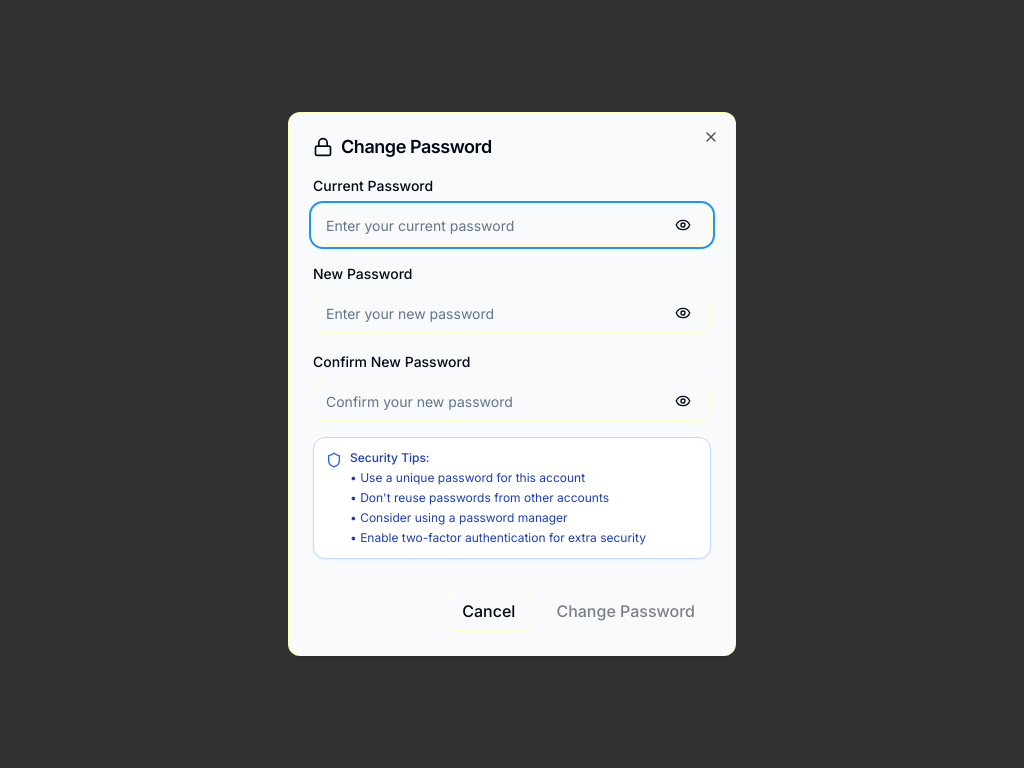
Test: PasswordChangeModal › shows password strength feedback
Type "weak" into the password field with test id "pwd-new" at (512, 313), box [313,293,711,333]
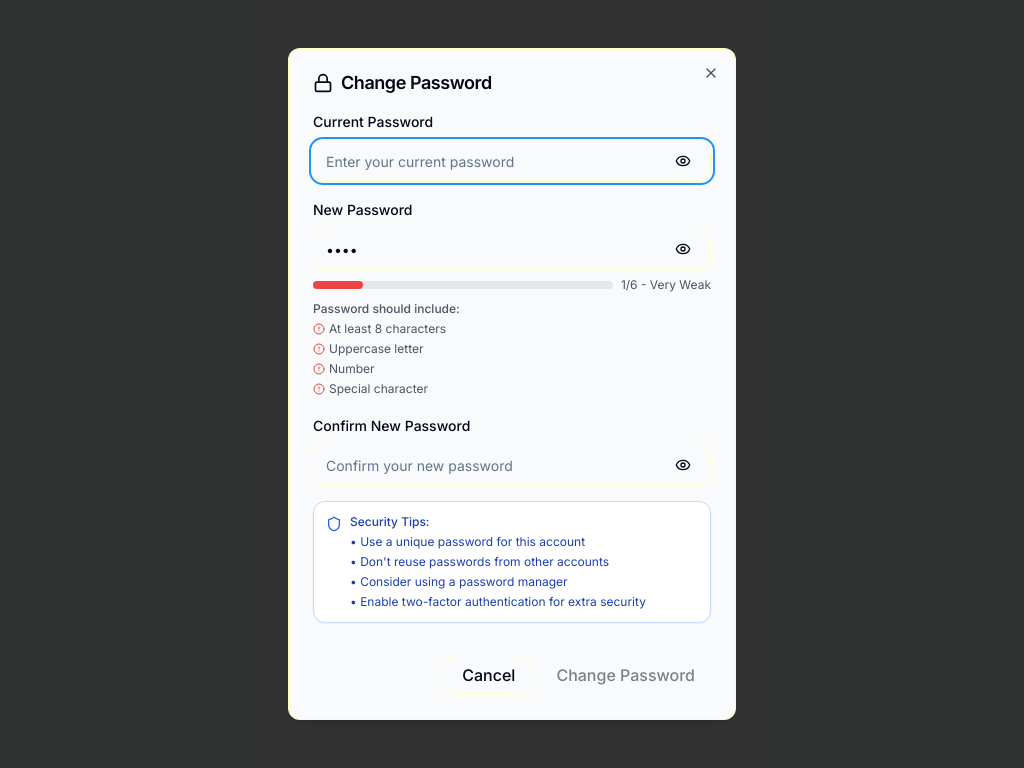
Expected: the list item "At least 8 characters" is shown, [313,321,446,336]
Expected: the list item "Uppercase letter" is shown, [313,341,424,356]
Expected: the list item "Number" is shown, [313,361,374,376]
